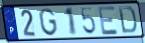1: (64, 7, 78, 37)
2: (21, 8, 37, 38)
5: (79, 6, 98, 36)
D: (117, 6, 138, 35)
E: (97, 5, 120, 37)
G: (38, 8, 59, 38)
